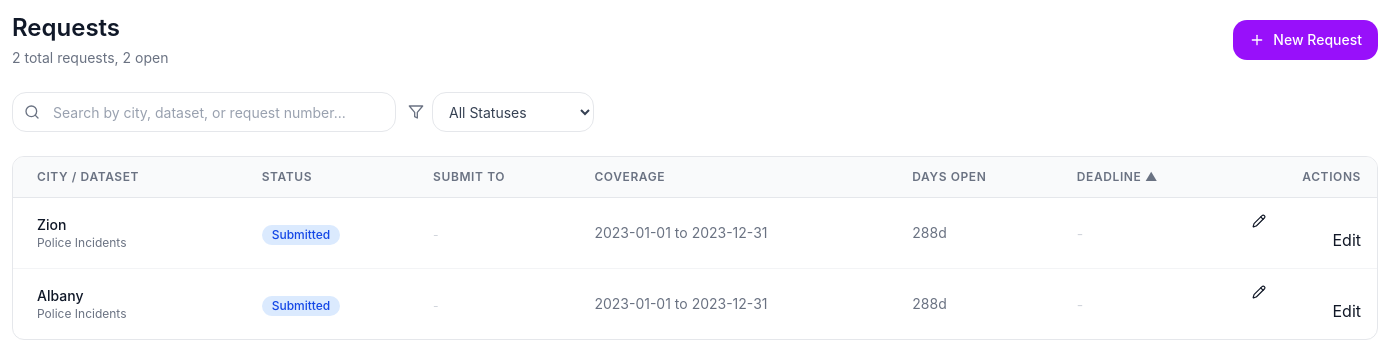
Test: RequestsListContent › sorts requests by city name when City header is clicked
Expected: the text "Zion" is shown, [37,216,66,233]
Click City header to sort by city
Click the column heading "City / Dataset": (129, 177) [13,157,246,198]
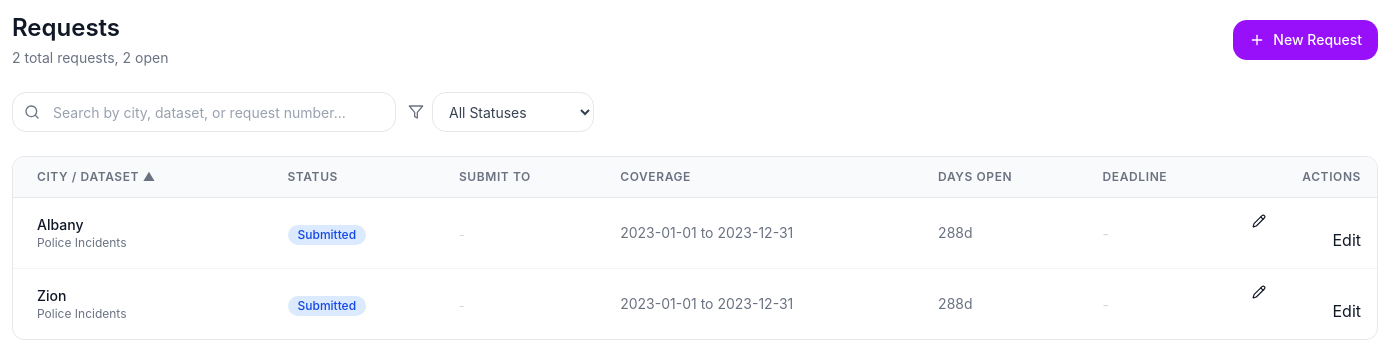
Expected: the row that starts with "Albany" is shown, [37,215,248,251]
Expected: the row that starts with "Zion" is shown, [37,286,248,322]
